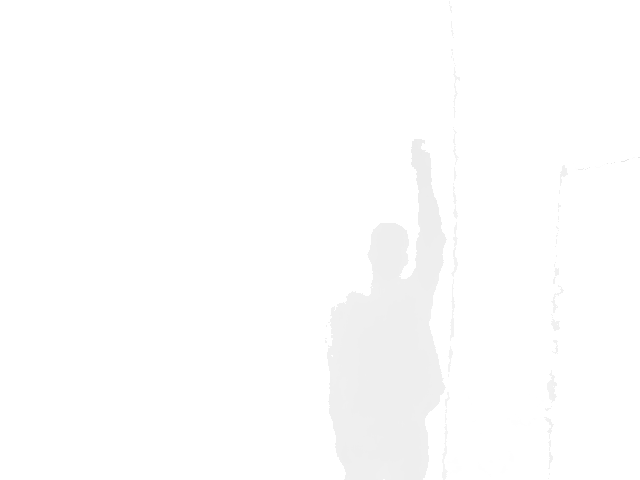hand: (410, 139, 434, 178)
head: (366, 221, 410, 289)
person: (326, 139, 446, 480)
